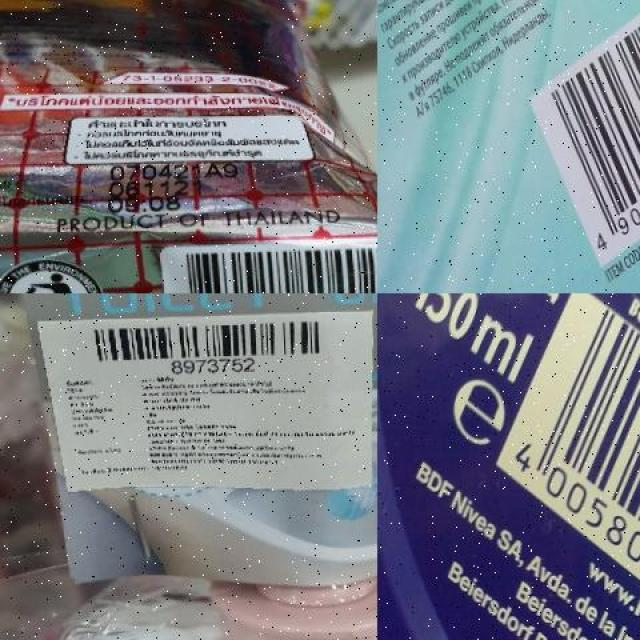Barcode: (485, 293, 640, 640), (517, 0, 640, 272), (83, 317, 330, 375), (165, 242, 378, 294)
